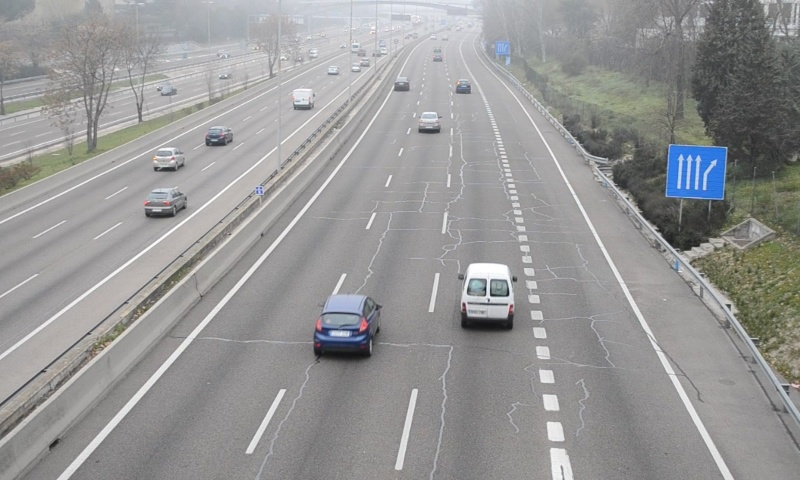car: (313, 294, 380, 355), (418, 111, 441, 132), (392, 76, 410, 92), (455, 78, 471, 93)
van: (462, 262, 514, 328)
